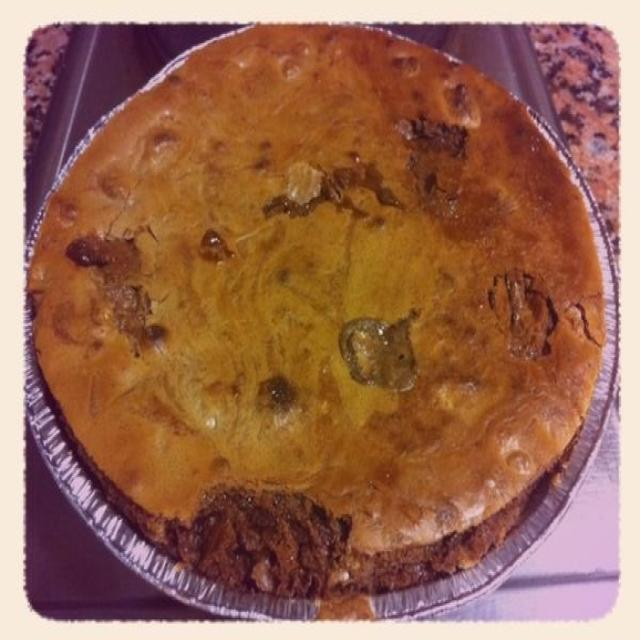蛋糕甜品: (23, 27, 618, 607)
